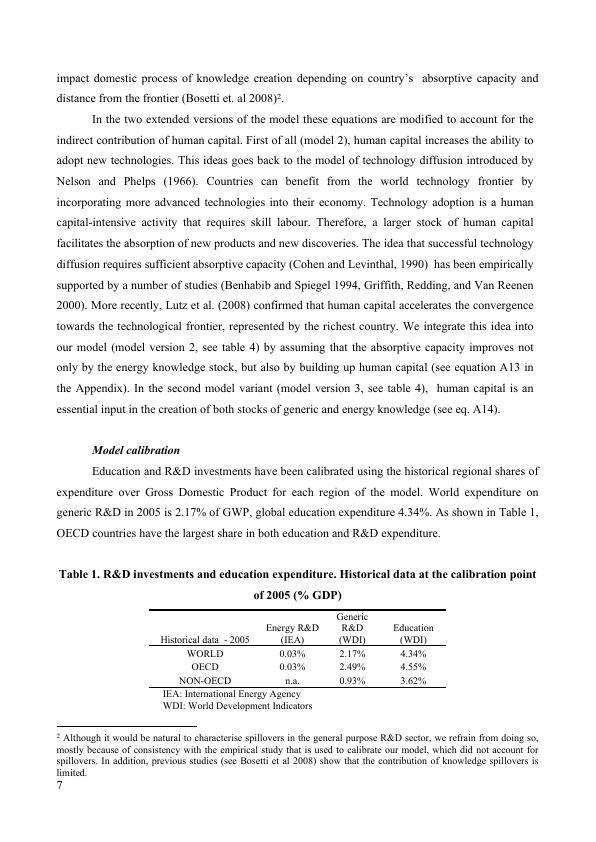table: (142, 605, 468, 689)
text: (44, 67, 543, 420), (51, 439, 548, 546), (48, 730, 555, 778), (44, 563, 545, 603), (154, 689, 324, 714)
